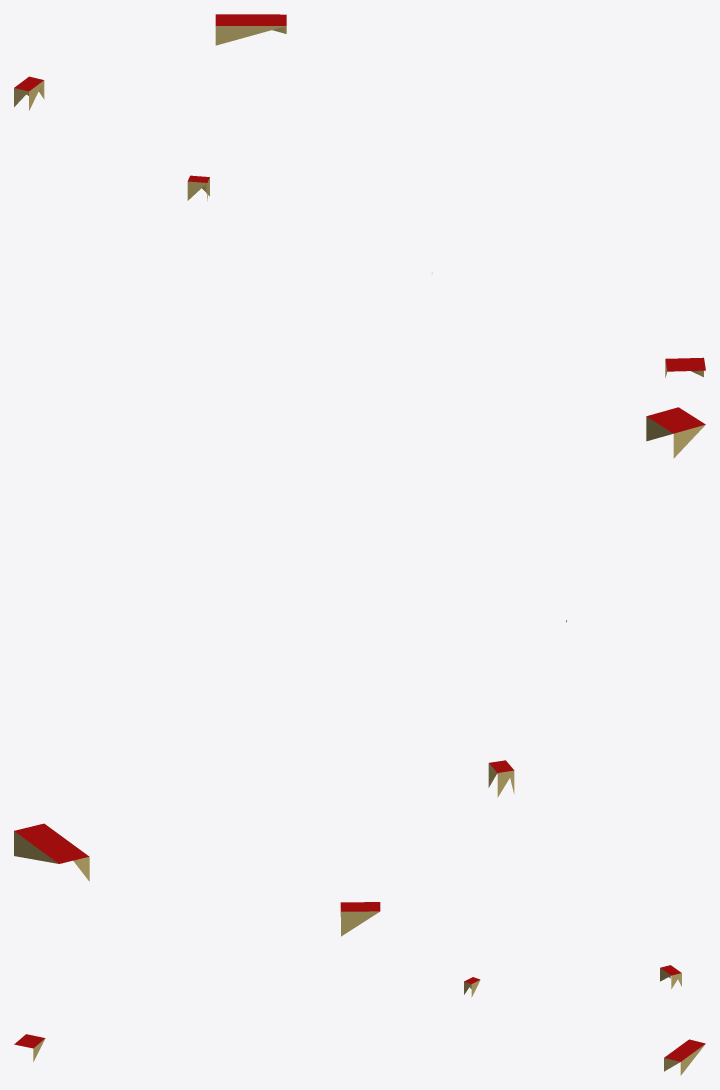
3 views of the same model, one above another, from view 1: azimuth 30°, elevation 25°; view 2: azimuth 150°, elevation 25°; view 3: azimuth 270°, elevation 25° (orthographic). The views are drawn at different scales.
Bounding box in the file's own units: 111 × 7.5 × 337.
